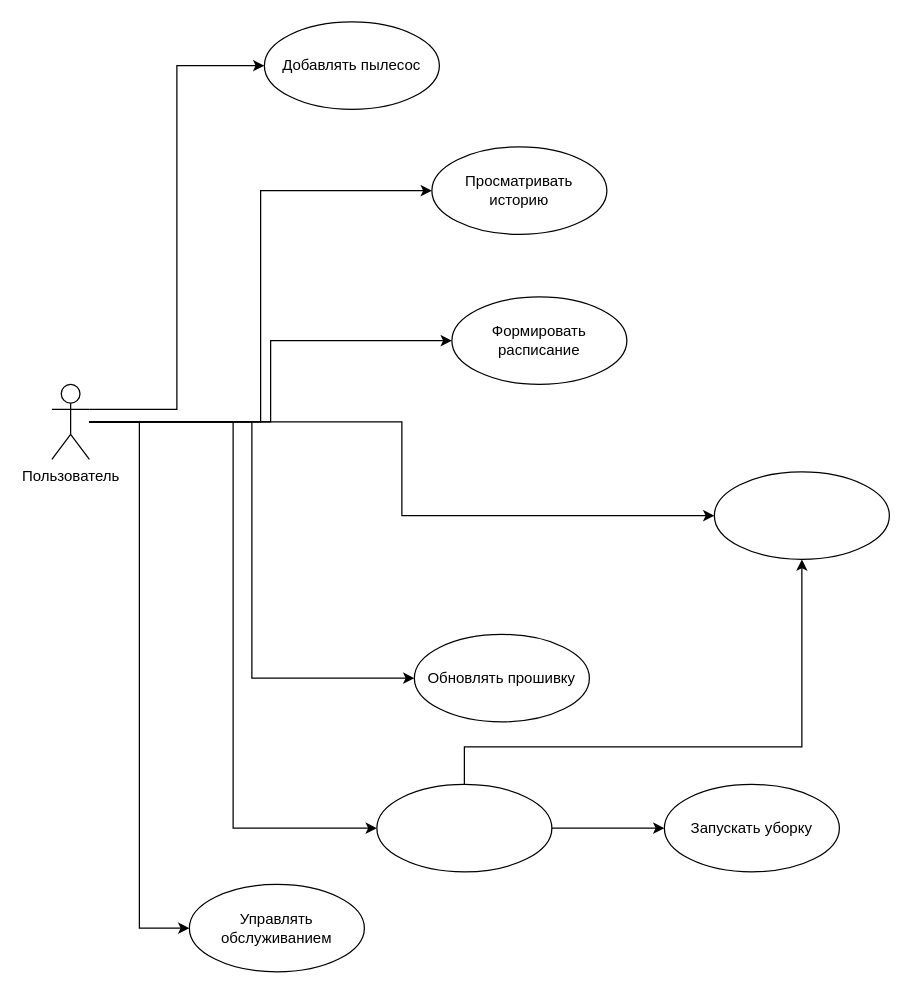
Image size: 911x994. Some labels were removed from this diagram. Here are the shapes that lost their labels. From the top down, the centre of each, then its label:
At point 801,515: "Управлять комнатами (редактировать карту)".
At point 464,827: "Выбирать комнату".
